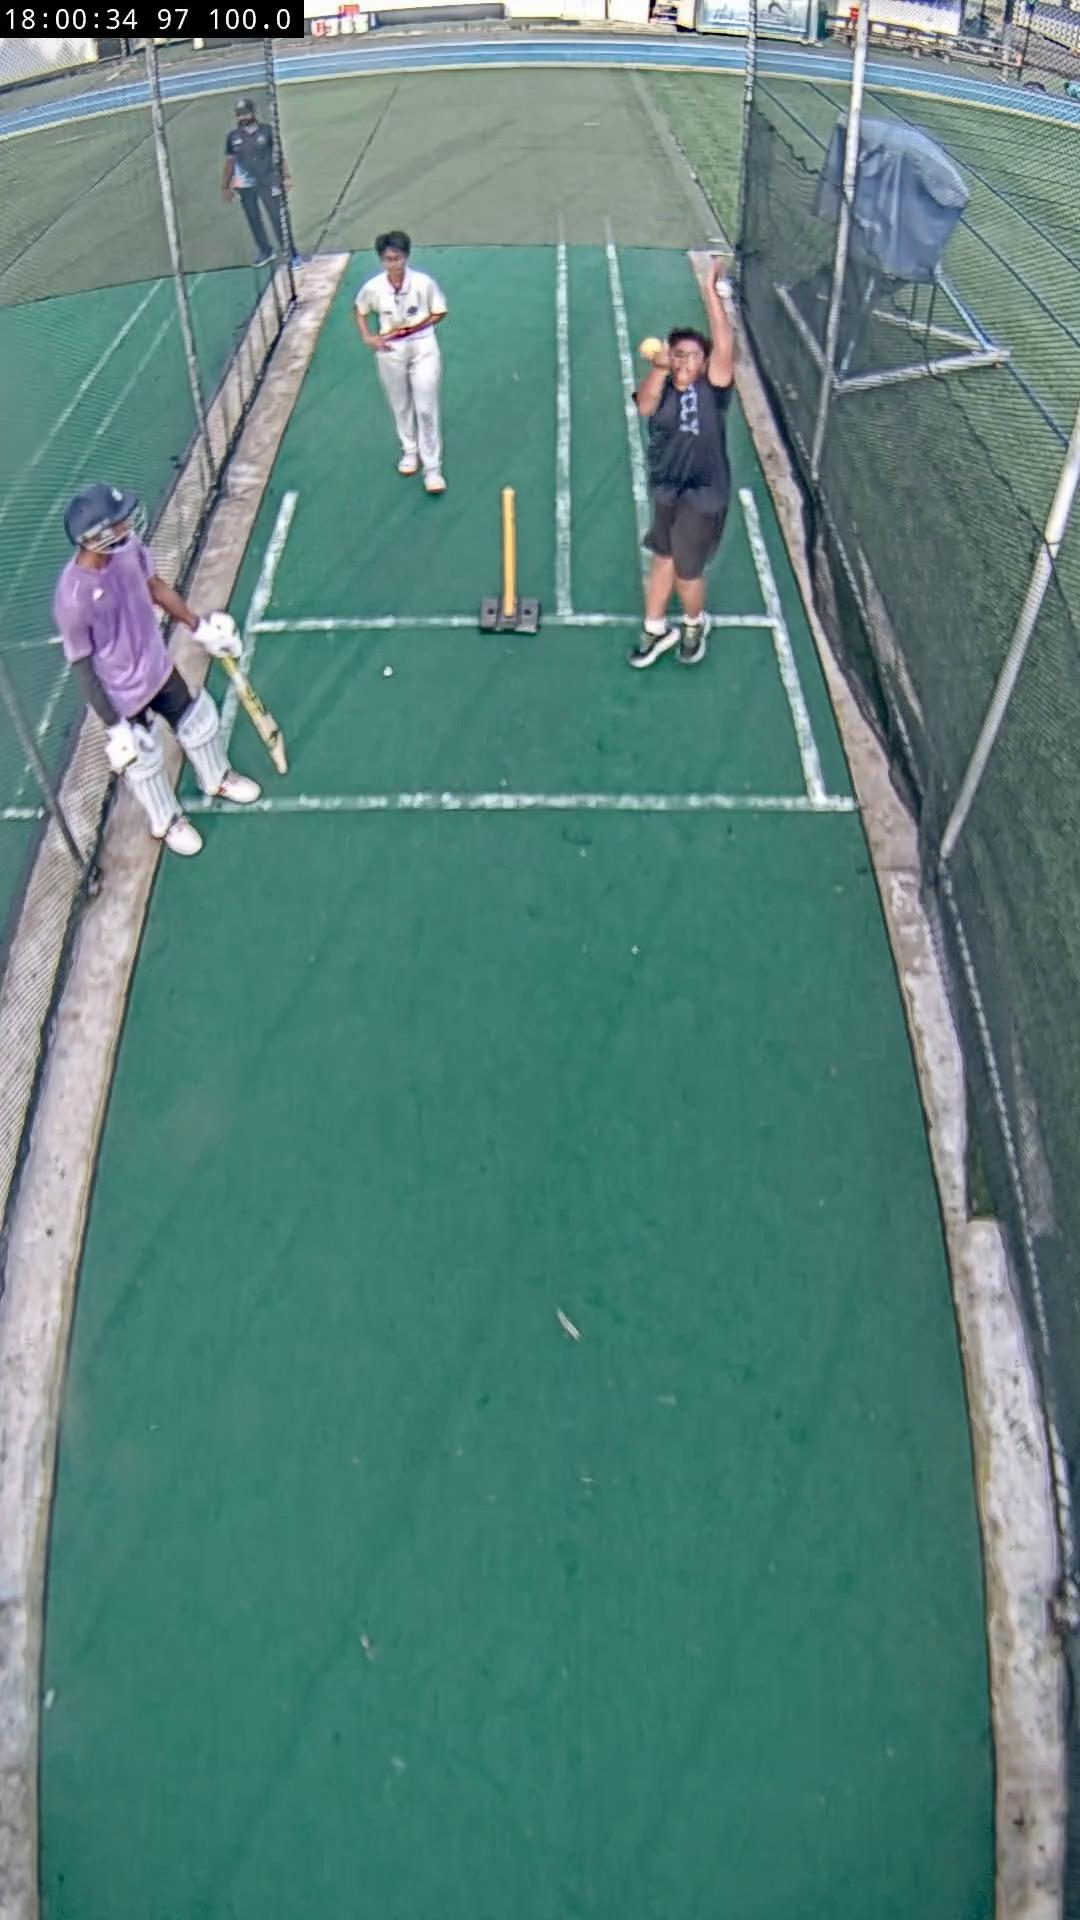ball: (637, 338, 663, 364)
stumps: (480, 488, 541, 634)
